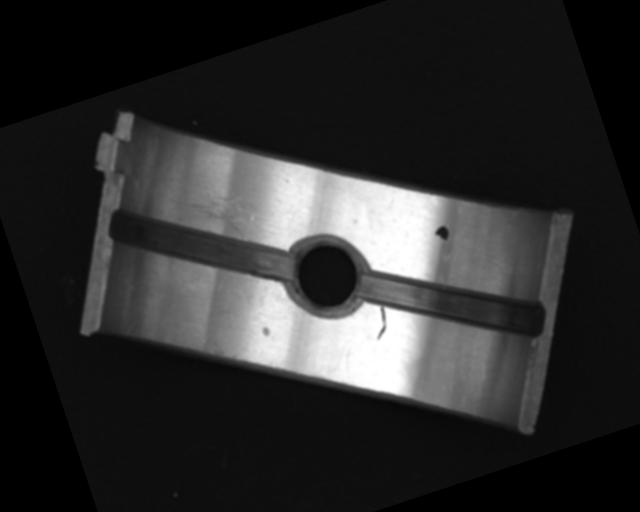blot: (432, 224, 452, 245)
bruise: (260, 323, 272, 338)
gap: (104, 163, 298, 328), (362, 227, 547, 380)
hole: (278, 229, 376, 326)
nick: (367, 304, 393, 340)
scratch: (166, 175, 258, 259)
